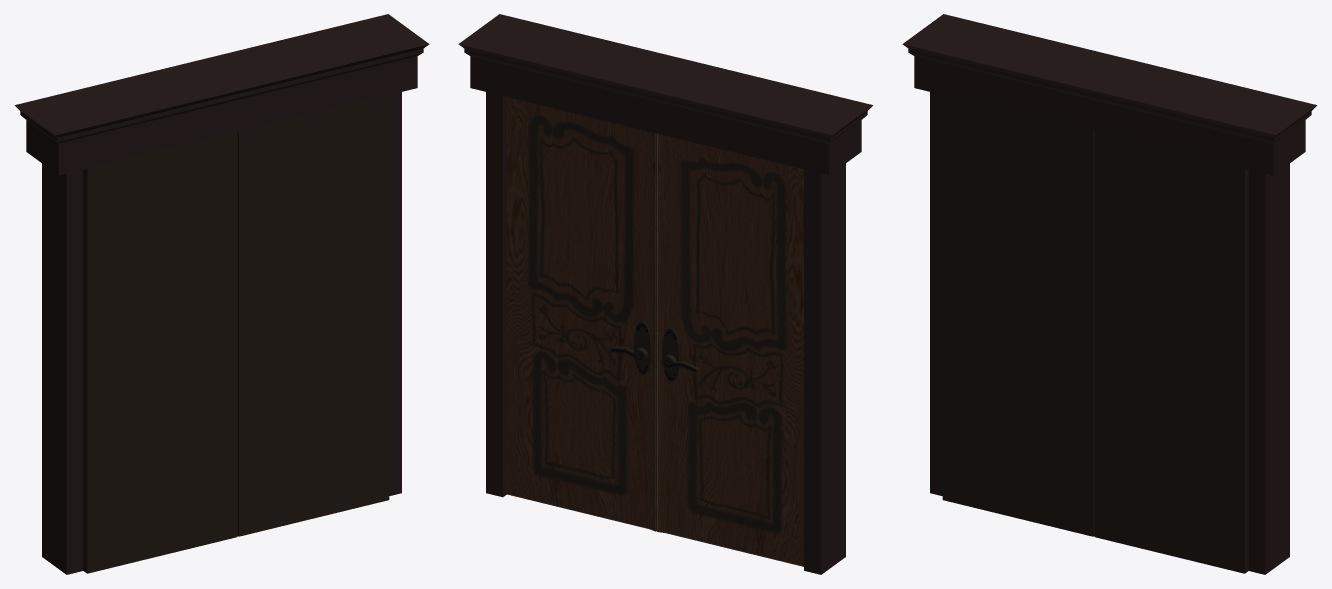
File: DOORS.fbx
3 renders of one model, left to right at view 1: azimuth 30°, elevation 25°; view 2: azimuth 150°, elevation 25°; view 3: azimuth 330°, elevation 25°, orthographic.
Parts seen in each view (by area): view 1: Doors; view 2: Doors; view 3: Doors.
Part boxes in pixels (left/top/right/bottom): Doors: left=14, top=14, right=429, bottom=574; Doors: left=458, top=14, right=873, bottom=574; Doors: left=902, top=14, right=1317, bottom=574.
Bounding box in the file's own units: 1.74 × 2 × 0.3322.
2 materials, 2 textured.
